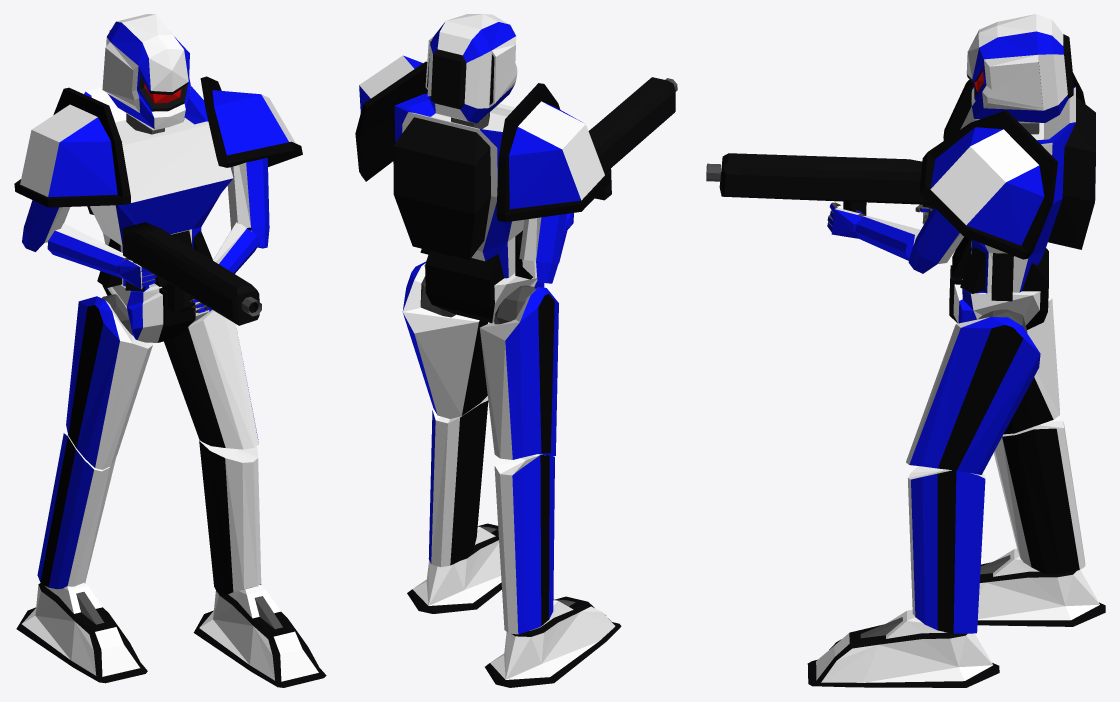
File: robots_000002.obj
3 views of the same model, side by side, from view 1: azimuth 30°, elevation 25°; view 2: azimuth 150°, elevation 25°; view 3: azimuth 270°, elevation 25° (orthographic). The views are drawn at different scales.
Visible parts, largest first — view 1: Chest_plate_Cube.004, Cube.002_Cube.059, R_Thigh_Cube.005, R_Thigh.002_Cube.027, Head_base_Cube.022, R_Shin.002_Cube.029, R_Foot.002_Cube.035, R_Foot_Cube, R_Shin_Cube.007, Cube_Cube.001, Cube_Cube.021, Pelvis_Cube.006 (+5 smaller); view 2: Chest_plate_Cube.004, Cube.002_Cube.059, R_Thigh_Cube.005, R_Shin_Cube.007, Head_base_Cube.022, R_Shin.002_Cube.029, R_Thigh.002_Cube.027, R_Foot_Cube, Cube_Cube.021, Pelvis_Cube.006, R_Foot.002_Cube.035, Cube_Cube.001 (+2 smaller); view 3: Cube_Cube.021, R_Thigh.002_Cube.027, R_Shin.002_Cube.029, Chest_plate_Cube.004, R_Shin_Cube.007, R_Foot.002_Cube.035, Head_base_Cube.022, Cube_Cube.001, R_Foot_Cube, Pelvis_Cube.006, R_Thigh_Cube.005, L_Arm_Cube.014 (+3 smaller).
Part boxes in pixels (<box>): Chest_plate_Cube.004: <box>84,86,233,291</box>; Cube.002_Cube.059: <box>14,87,130,207</box>; R_Thigh_Cube.005: <box>66,296,153,469</box>; R_Thigh.002_Cube.027: <box>164,309,258,449</box>; Head_base_Cube.022: <box>102,14,190,130</box>; R_Shin.002_Cube.029: <box>199,439,261,595</box>; R_Foot.002_Cube.035: <box>193,585,326,687</box>; R_Foot_Cube: <box>16,583,147,683</box>; R_Shin_Cube.007: <box>37,433,116,589</box>; Cube_Cube.001: <box>123,222,261,325</box>; Cube_Cube.021: <box>200,76,302,167</box>; Pelvis_Cube.006: <box>102,284,211,342</box>; Chest_plate_Cube.004: <box>393,93,533,279</box>; Cube.002_Cube.059: <box>496,83,611,222</box>; R_Thigh_Cube.005: <box>480,287,558,459</box>; R_Shin_Cube.007: <box>494,455,554,634</box>; Head_base_Cube.022: <box>425,14,517,123</box>; R_Shin.002_Cube.029: <box>428,396,488,566</box>; R_Thigh.002_Cube.027: <box>402,261,487,418</box>; R_Foot_Cube: <box>485,596,621,687</box>; Cube_Cube.021: <box>355,55,427,181</box>; Pelvis_Cube.006: <box>424,250,544,323</box>; R_Foot.002_Cube.035: <box>407,523,501,613</box>; Cube_Cube.001: <box>588,77,677,200</box>; Cube_Cube.021: <box>919,110,1057,259</box>; R_Thigh.002_Cube.027: <box>906,317,1040,474</box>; R_Shin.002_Cube.029: <box>907,466,985,633</box>; Chest_plate_Cube.004: <box>952,86,1095,301</box>; R_Shin_Cube.007: <box>993,415,1085,574</box>; R_Foot.002_Cube.035: <box>807,609,999,687</box>; Head_base_Cube.022: <box>966,14,1073,123</box>; Cube_Cube.001: <box>706,153,933,215</box>; R_Foot_Cube: <box>977,548,1105,626</box>; Pelvis_Cube.006: <box>949,248,1048,329</box>; R_Thigh_Cube.005: <box>1004,290,1060,434</box>; L_Arm_Cube.014: <box>908,207,963,273</box>.
Size of the model in its own units: 1.32 by 3.04 by 1.76.
